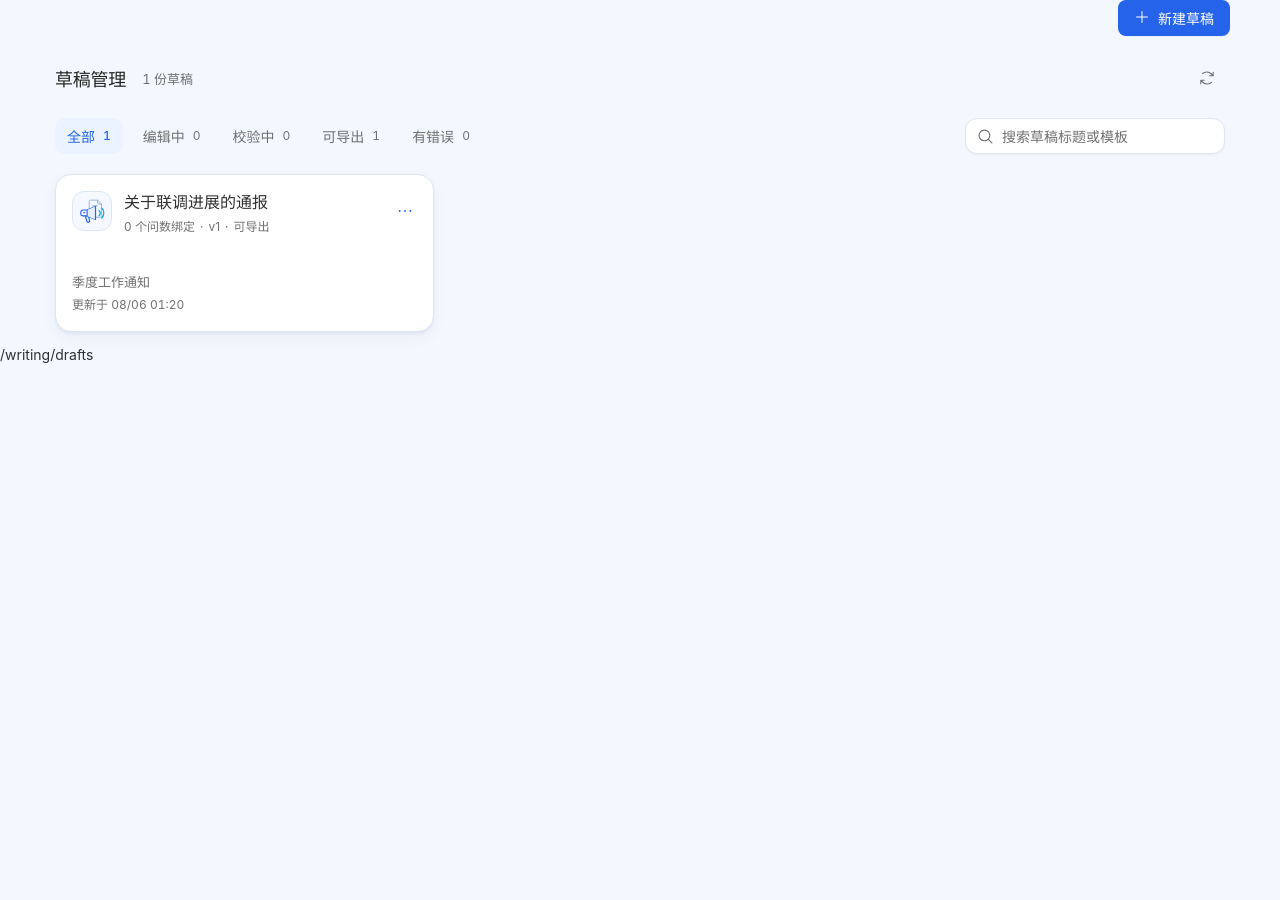
Scenario: DraftLibraryView › renames only after service success and keeps the template name
Step 1. Click the button named "管理草稿 关于联调进展的通报" → x=405, y=211, box 387,193 -> 423,229
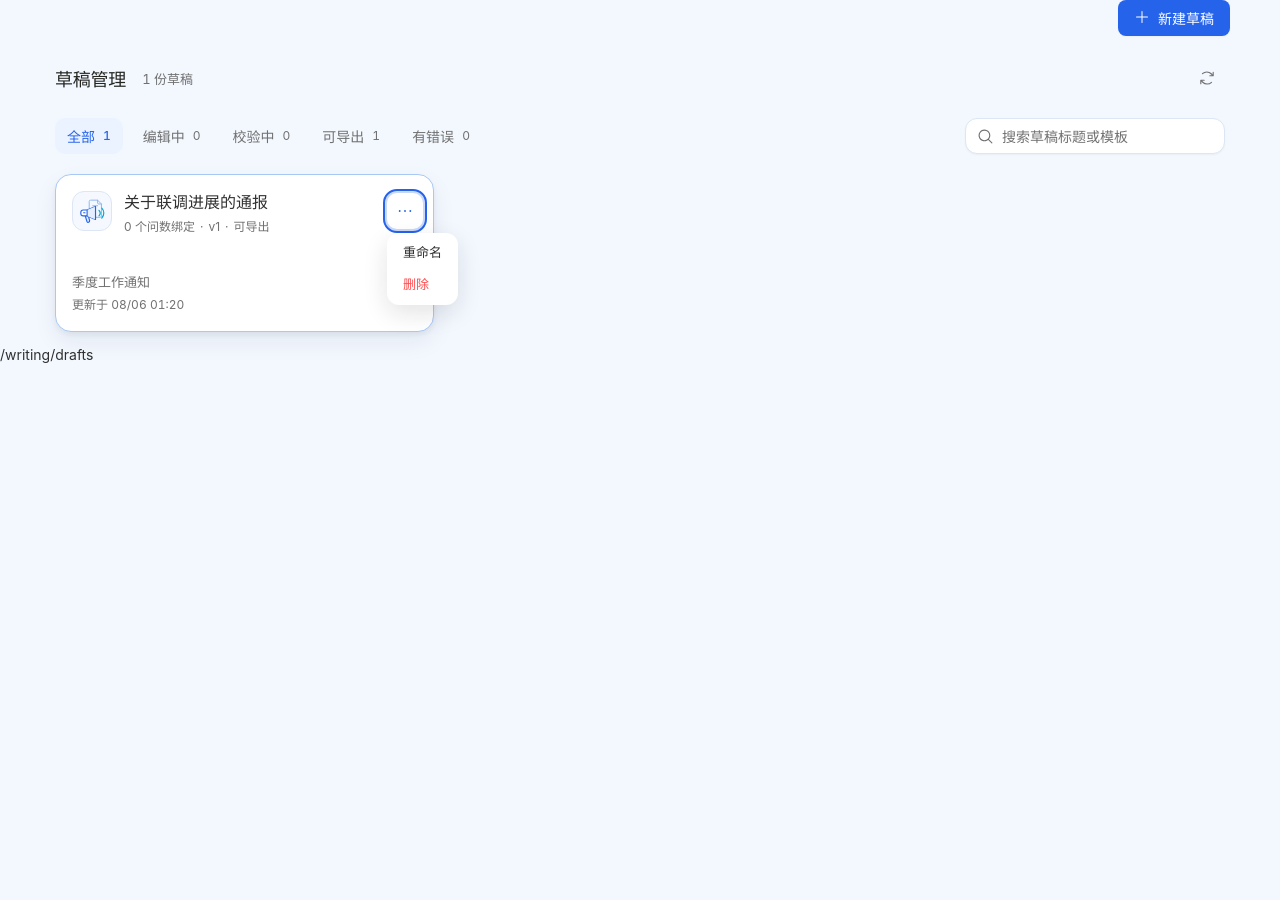
Step 2. Click the menu item "重命名" → x=422, y=252, box 403,244 -> 442,260
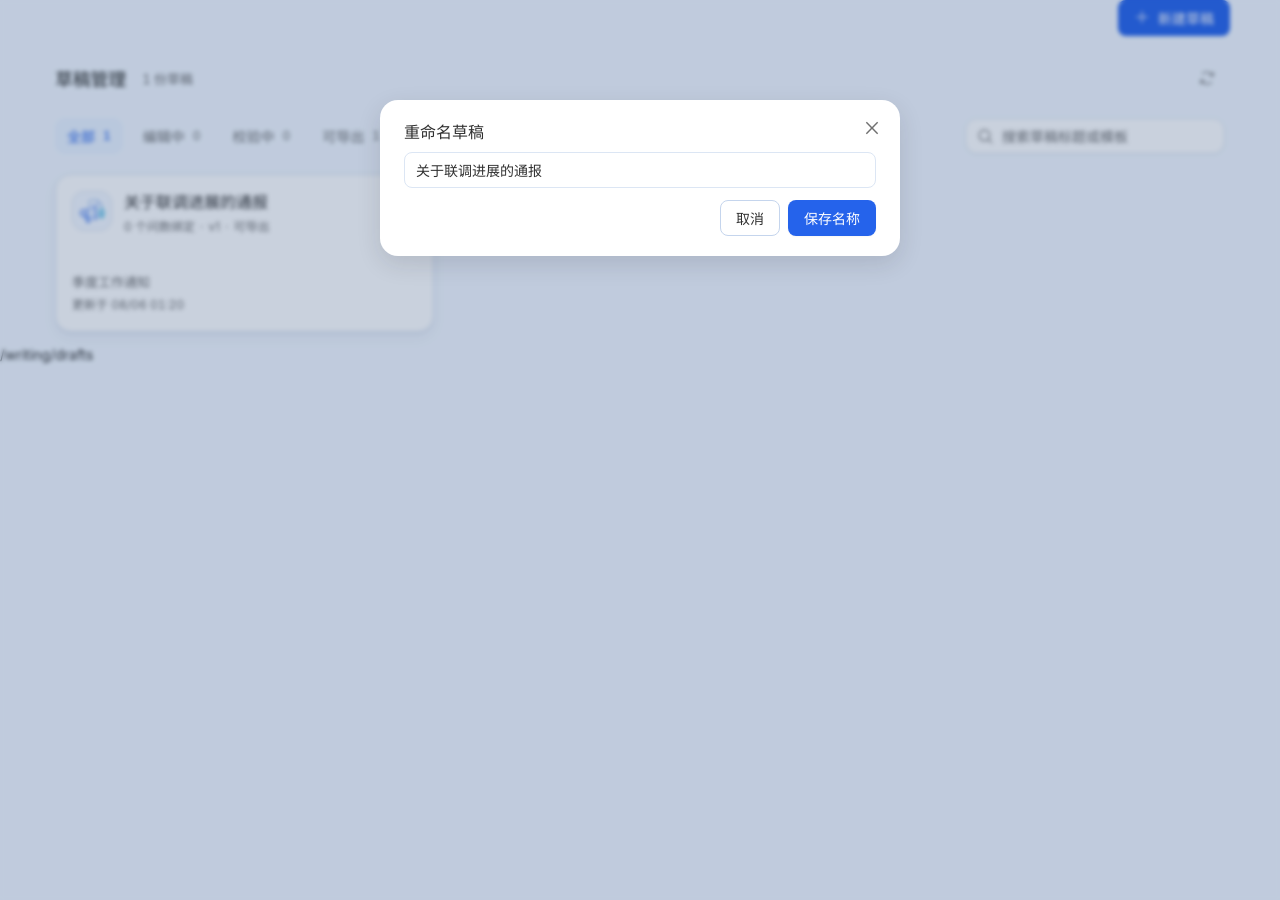
Step 3. Replace the text in the field named "草稿名称" with "更新的通报" → x=640, y=170, box 404,152 -> 876,188
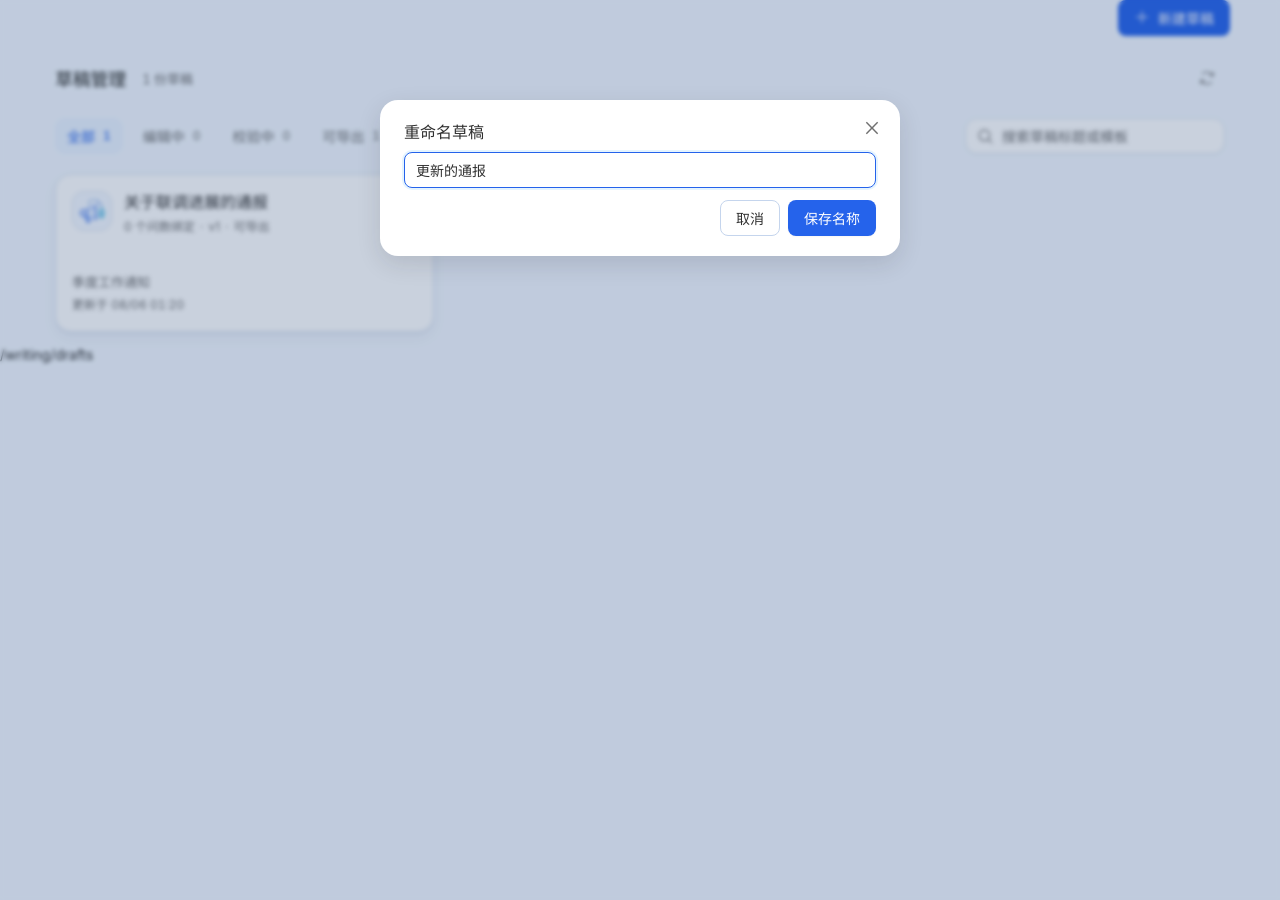
Step 4. Click the button "保存名称" → x=832, y=218, box 788,200 -> 876,236
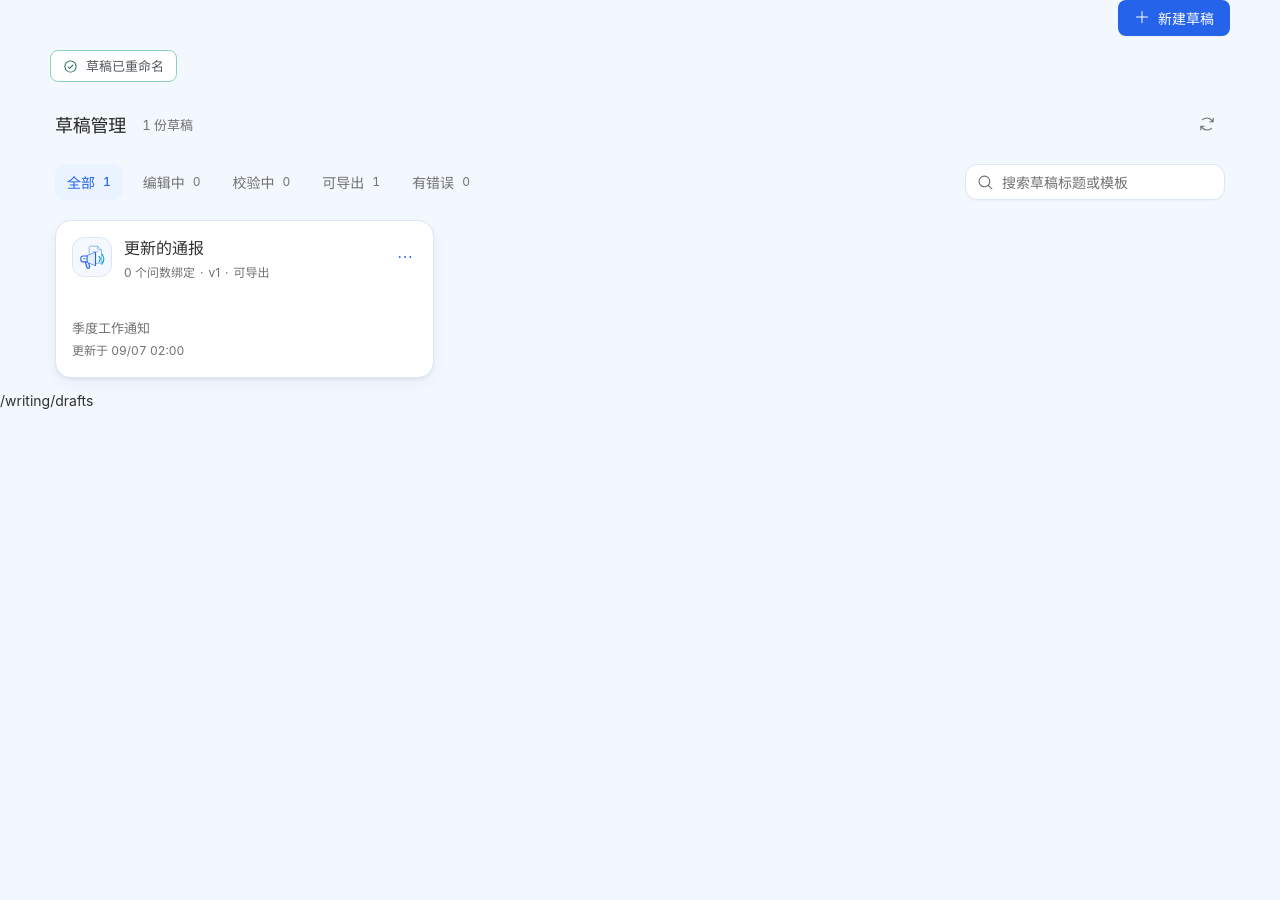
expect the button with aria-label "打开草稿 更新的通报" shows "季度工作通知": met, box 56,221 -> 433,377
expect the dialog is gone: met
